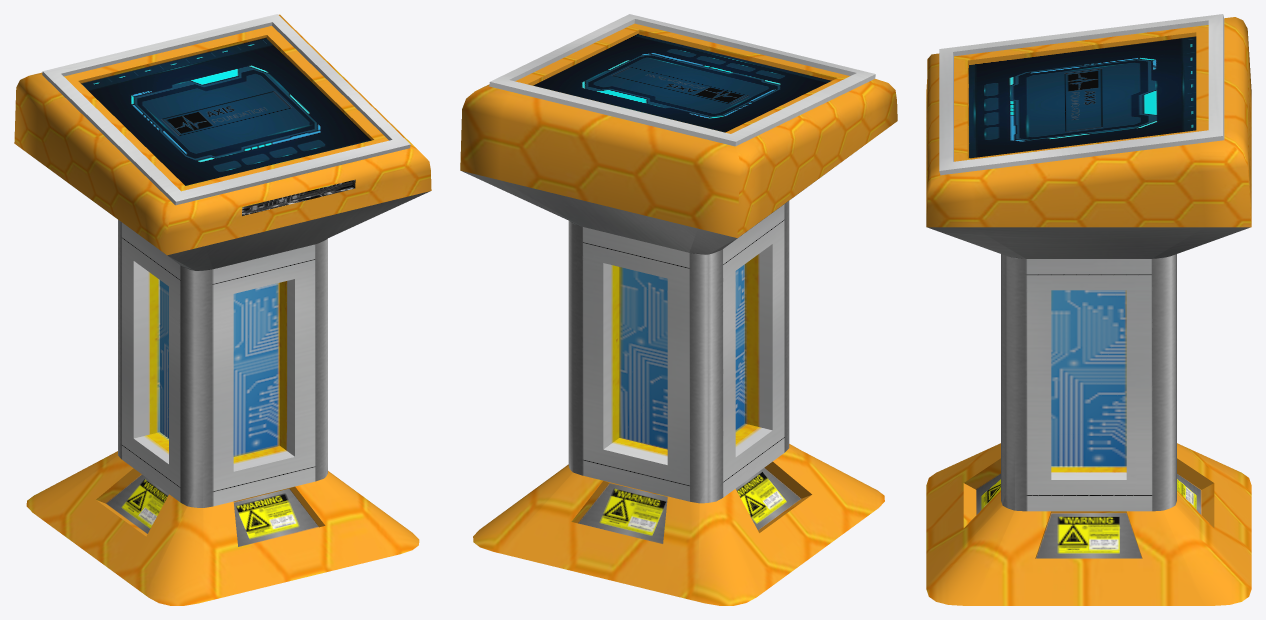
Rendered from Console.fbx.
The picture shows the model from 3 angles, left to right: view 1: azimuth 30°, elevation 25°; view 2: azimuth 150°, elevation 25°; view 3: azimuth 270°, elevation 25°; orthographic projection. The views are drawn at different scales.
Visible parts, largest first — view 1: Console002; view 2: Console002; view 3: Console002.
Part boxes in pixels (x1,y1,x2,y2): Console002: (14, 14, 431, 605); Console002: (460, 14, 897, 605); Console002: (926, 14, 1251, 605).
Bounding box in the file's own units: 50.8 × 79.72 × 50.8.
Materials: 1 (1 with a texture image).
